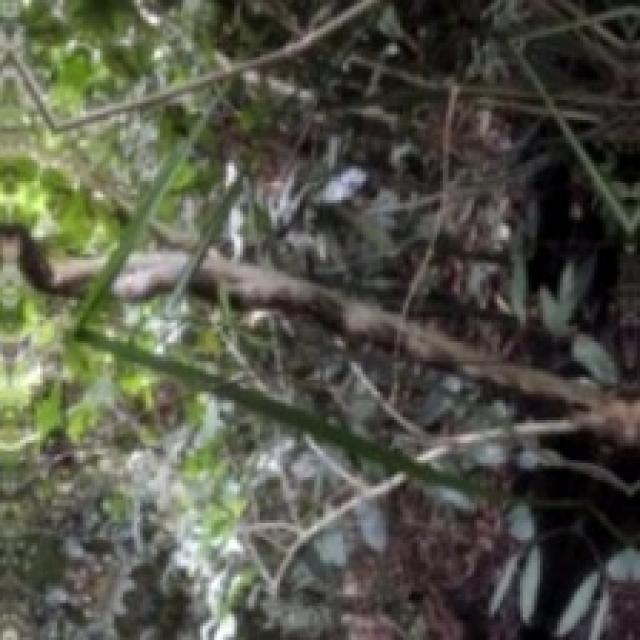reticulated python: (190, 251, 598, 406), (0, 225, 103, 297), (112, 250, 189, 301)
